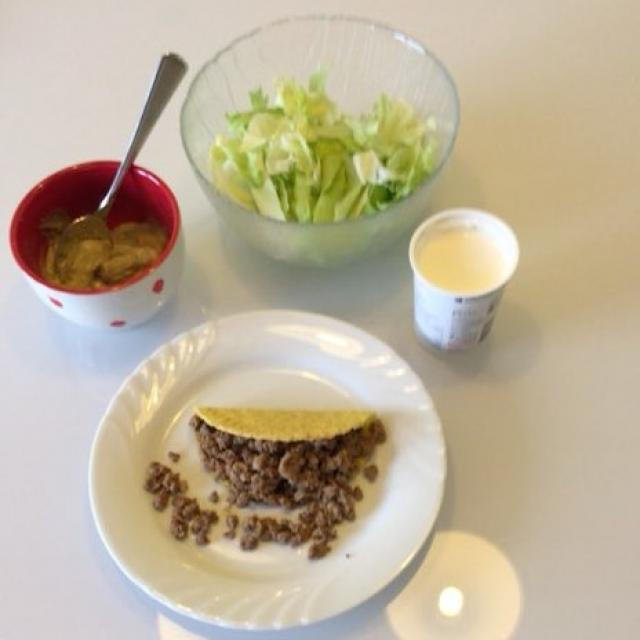avocado: (46, 203, 166, 287)
salad-leaf-salad-green: (224, 79, 437, 223)
sour-cream: (413, 216, 512, 293)
